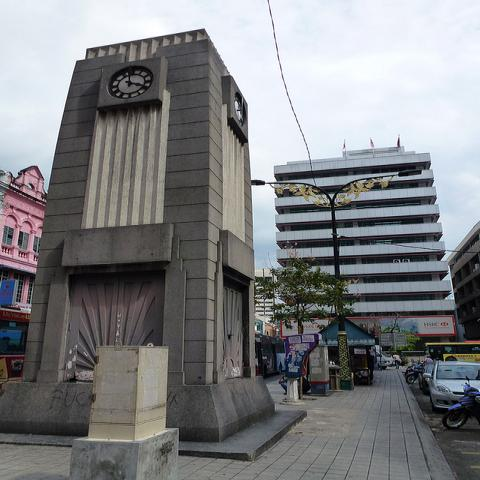bus: (425, 340, 479, 363)
car: (421, 360, 479, 416), (381, 354, 395, 370)
motorcycle: (438, 374, 479, 432), (407, 358, 425, 384)
